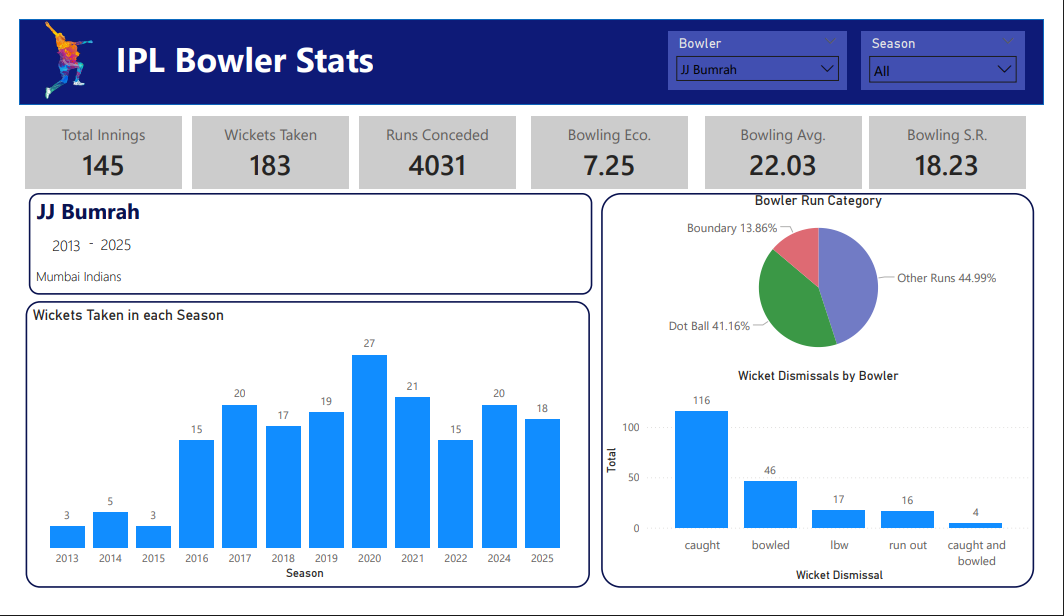

Layout of this report page (visuals, bound fields, positions):
{"tool":"powerbi","page":{"name":"bowler","canvas":[1280,720],"ordinal":3},"visuals":[{"type":"shape","box":[0,0,1280,106.7],"z":0},{"type":"textbox","box":[96.7,15,370,75],"z":1000},{"type":"image","box":[8.8,0,105.8,107.3],"z":2000},{"type":"slicer","fields":{"Values":["ipl_balls.bowler"]},"box":[811.1,14.7,223.3,73.5],"z":3000},{"type":"slicer","fields":{"Values":["ipl_matches.season"]},"box":[1052.1,14.7,204.2,73.5],"z":4000},{"type":"cardVisual","fields":{"Data":["CountNonNull(ipl_matches.match_id)"]},"box":[8.3,121.7,195,90],"z":5000},{"type":"cardVisual","fields":{"Data":["ipl_balls.wicket_count_bowler"]},"box":[216.7,121.7,195,90],"z":6000},{"type":"cardVisual","fields":{"Data":["Sum(ipl_balls.runs_bowler)"]},"box":[425,121.7,195,90],"z":7000},{"type":"cardVisual","fields":{"Data":["ipl_balls.bowling_avg"]},"box":[1061.7,121.7,195,90],"z":8000},{"type":"cardVisual","fields":{"Data":["ipl_balls.bowling_avg1"]},"box":[856.7,121.7,195,90],"z":9000},{"type":"cardVisual","fields":{"Data":["ipl_balls.bowling_eco"]},"box":[640,121.7,195,90],"z":10000},{"type":"shape","box":[11.8,217.5,703.8,126.4],"z":11000},{"type":"cardVisual","fields":{"Data":["Max(ipl_balls.bowler)"]},"box":[16.2,217.5,684.7,39.7],"z":12000},{"type":"cardVisual","fields":{"Data":["ipl_balls.teams_played_bowling"]},"box":[16.2,296.8,696.5,45.6],"z":13000},{"type":"cardVisual","fields":{"Data":["Min(ipl_matches.season)"]},"box":[11.8,257.1,70.5,45.6],"z":14000},{"type":"cardVisual","fields":{"Data":["Max(ipl_matches.season)"]},"box":[97,255.7,66.1,47],"z":15000},{"type":"textbox","box":[82.3,263,14.7,35.3],"z":16000},{"type":"shape","box":[8.3,352,705,358.3],"z":17000},{"type":"shape","box":[726.7,216.7,541.7,493.3],"z":18000},{"type":"columnChart","title":"Wickets Taken in each Season","fields":{"Y":["ipl_balls.wicket_count"],"Category":["ipl_matches.season"]},"box":[11.8,359.5,690.4,344.4],"z":19000},{"type":"pieChart","title":"Bowler Run Category","fields":{"Category":["ipl_balls.bowler_run_catg"],"Y":["CountNonNull(ipl_balls.bowler_run_catg)"]},"box":[739.1,216,518.7,218.9],"z":20000},{"type":"columnChart","title":"Wicket Dismissals by Bowler","fields":{"Category":["ipl_balls.wicket_kind"],"Y":["CountNonNull(ipl_balls.wicket_kind)"]},"box":[727.3,434.9,542.2,268.9],"z":21000}]}

Visuals, with their boxes in screenshot pixels (x1, y1, x2, y2), scaled from the page's 1280x720 canvas onto the 1064x616 screenshot:
shape: x1=0 y1=0 x2=1063 y2=91
textbox: x1=80 y1=13 x2=388 y2=77
image: x1=7 y1=0 x2=95 y2=92
slicer - ipl_balls.bowler: x1=674 y1=13 x2=860 y2=75
slicer - ipl_matches.season: x1=875 y1=13 x2=1044 y2=75
cardVisual - CountNonNull(ipl_matches.match_id): x1=7 y1=104 x2=169 y2=181
cardVisual - ipl_balls.wicket_count_bowler: x1=180 y1=104 x2=342 y2=181
cardVisual - Sum(ipl_balls.runs_bowler): x1=353 y1=104 x2=515 y2=181
cardVisual - ipl_balls.bowling_avg: x1=883 y1=104 x2=1045 y2=181
cardVisual - ipl_balls.bowling_avg1: x1=712 y1=104 x2=874 y2=181
cardVisual - ipl_balls.bowling_eco: x1=532 y1=104 x2=694 y2=181
shape: x1=10 y1=186 x2=595 y2=294
cardVisual - Max(ipl_balls.bowler): x1=13 y1=186 x2=583 y2=220
cardVisual - ipl_balls.teams_played_bowling: x1=13 y1=254 x2=592 y2=293
cardVisual - Min(ipl_matches.season): x1=10 y1=220 x2=68 y2=259
cardVisual - Max(ipl_matches.season): x1=81 y1=219 x2=136 y2=259
textbox: x1=68 y1=225 x2=81 y2=255
shape: x1=7 y1=301 x2=593 y2=608
shape: x1=604 y1=185 x2=1054 y2=607
"Wickets Taken in each Season" columnChart: x1=10 y1=308 x2=584 y2=602
"Bowler Run Category" pieChart: x1=614 y1=185 x2=1046 y2=372
"Wicket Dismissals by Bowler" columnChart: x1=605 y1=372 x2=1055 y2=602
